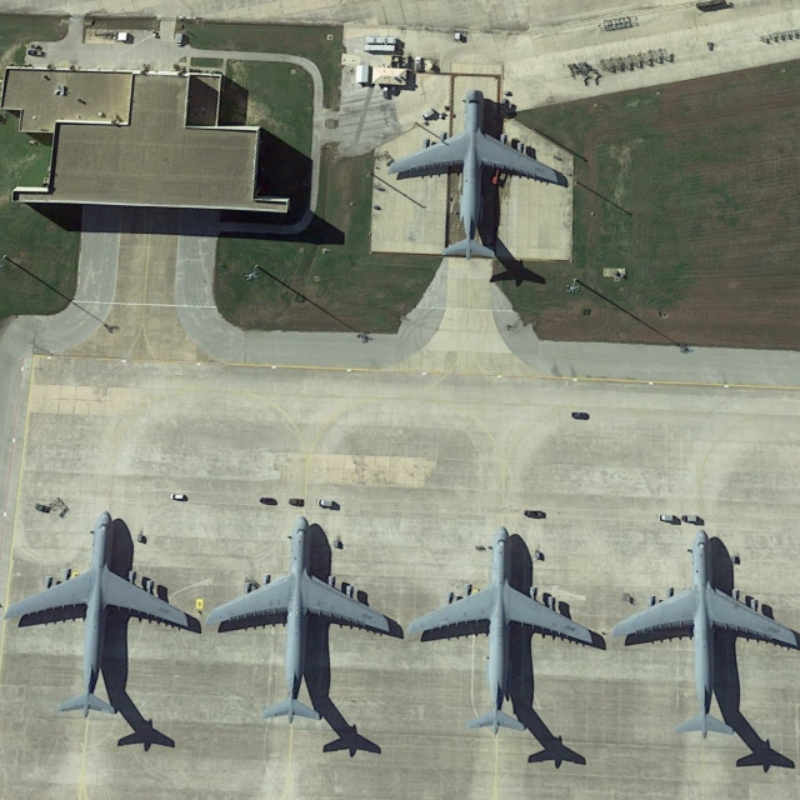A4: (206, 500, 396, 734), (606, 516, 800, 742), (408, 516, 601, 742), (4, 494, 193, 722), (385, 82, 565, 265)
